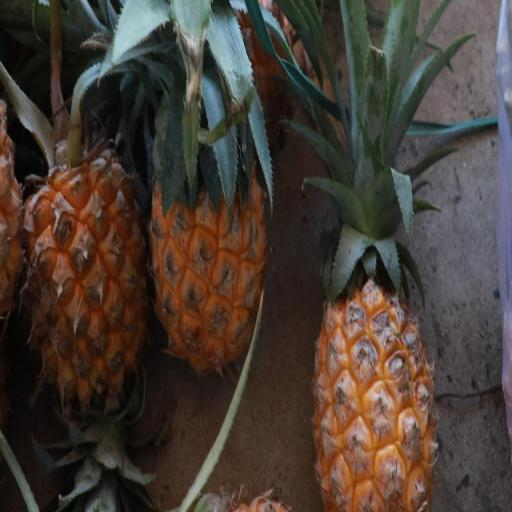Pineapple - v8 v1: (309, 139, 442, 512), (19, 76, 150, 421), (146, 56, 272, 381)
